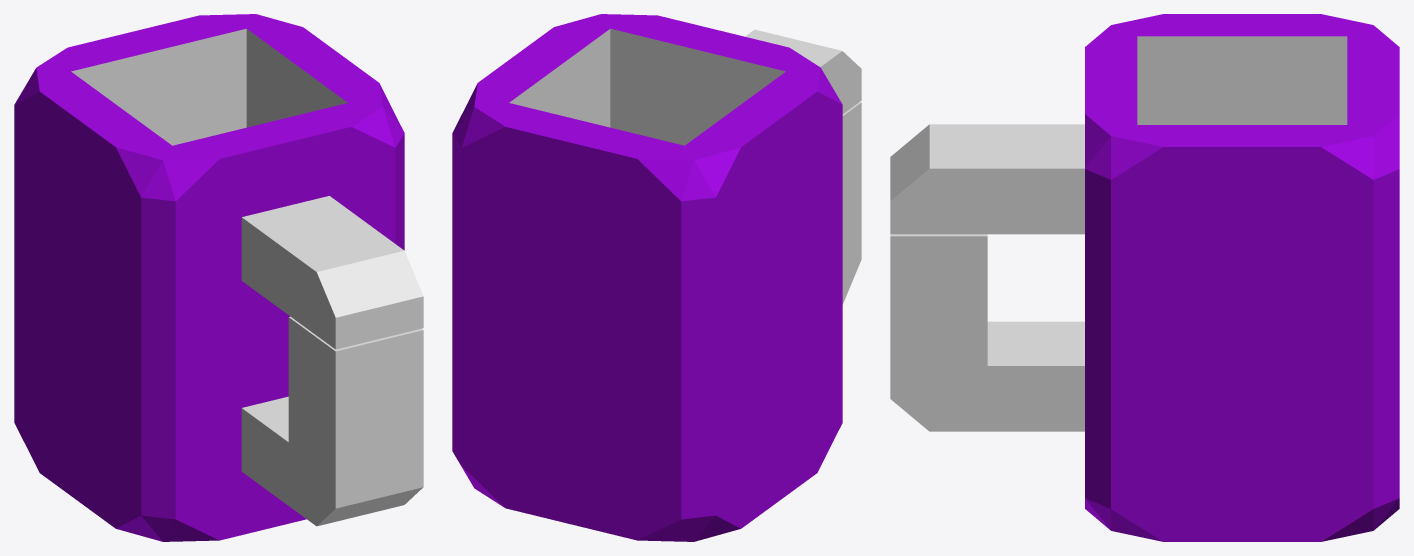
Rendered from Purple Mug.glb.
The picture shows the model from 3 angles, left to right: view 1: azimuth 30°, elevation 25°; view 2: azimuth 150°, elevation 25°; view 3: azimuth 270°, elevation 25°; orthographic projection. The views are drawn at different scales.
Visible parts, largest first — view 1: Cube; view 2: Cube; view 3: Cube.
Boxes of the visible parts, left/top/right/bottom form: Cube: left=14, top=14, right=423, bottom=541; Cube: left=452, top=14, right=861, bottom=541; Cube: left=890, top=14, right=1399, bottom=541.
Bounding box in the file's own units: 8.24 × 11.4 × 13.33.
